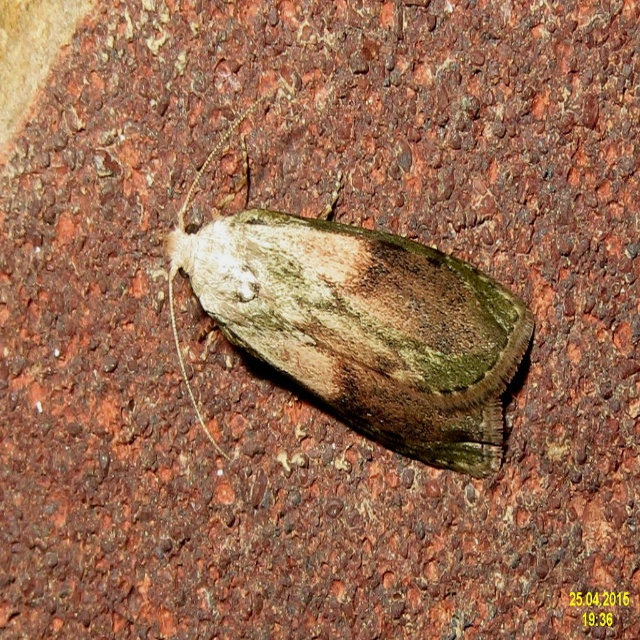Moths and butterflies: (161, 88, 536, 481)
